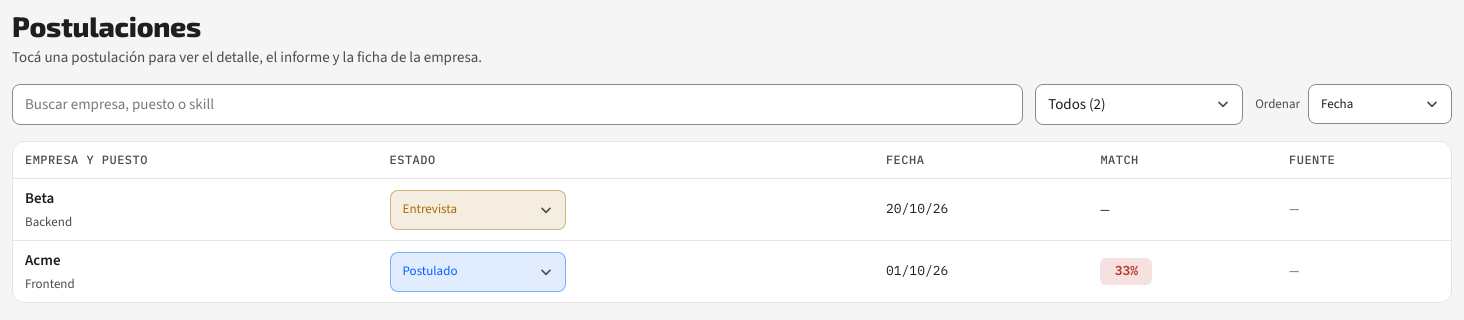
Scenario: ApplicationsTab › list › filters by status from the toolbar, with counts, and explains an empty result
Select "Entrevista (1)" in the dropdown named "Filtrar por estado": (1139, 104) [1035,84,1243,125]
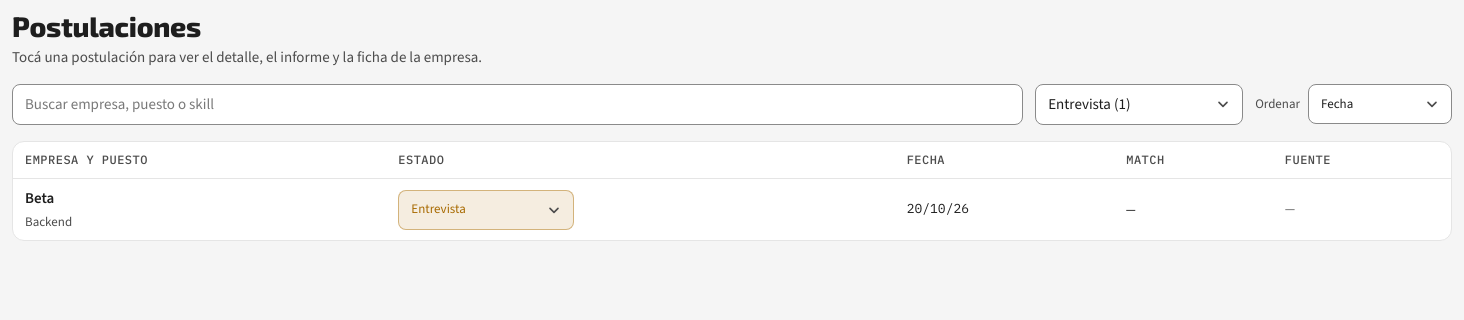
Check: the number of rows is 2, box [13,142,1451,179]; [13,179,1451,240]
Select "Oferta (0)" in the dropdown named "Filtrar por estado": (1139, 104) [1035,84,1243,125]
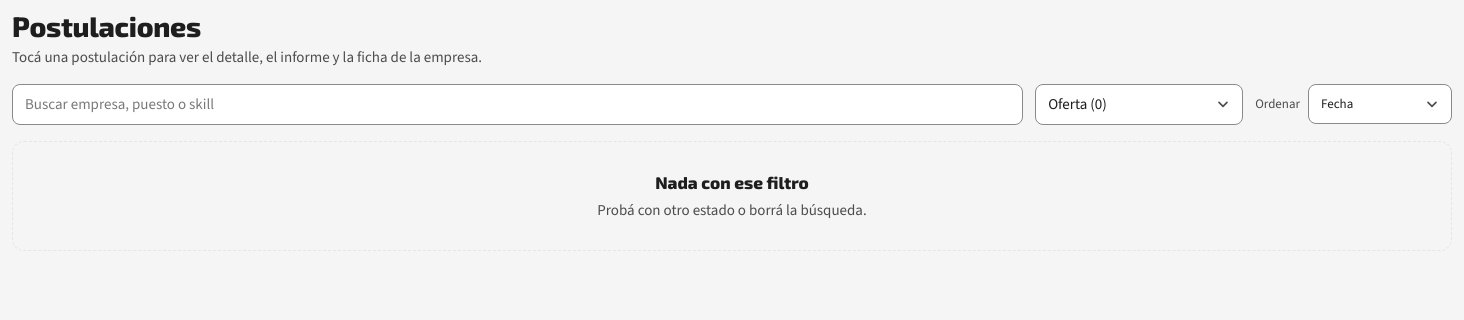
Check: the text "Nada con ese filtro" is shown, box [655,172,809,192]
